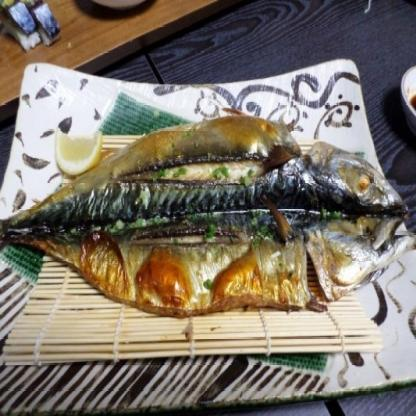Peixe: (0, 108, 416, 324)
